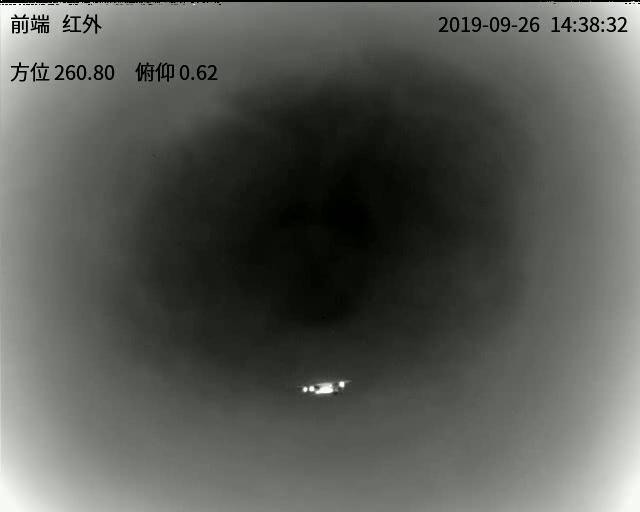DRONE: (299, 380, 350, 398)
